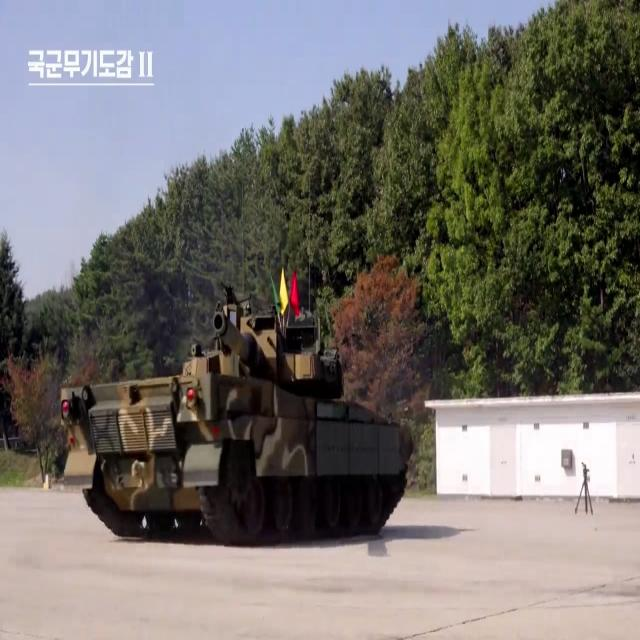korea tank: (60, 277, 412, 547)
